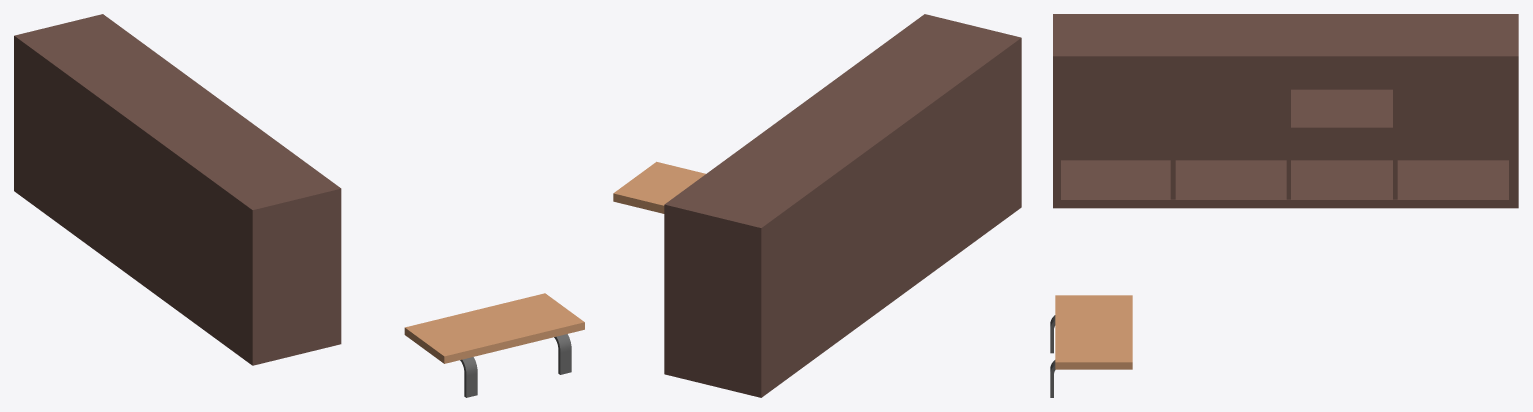
The model's file is Uppershelf.fbx.
3 renders of one model, left to right at view 1: azimuth 30°, elevation 25°; view 2: azimuth 150°, elevation 25°; view 3: azimuth 270°, elevation 25°, orthographic. The views are drawn at different scales.
Visible parts, largest first — view 1: pCube87; view 2: pCube87; view 3: pCube87.
Boxes of the visible parts, <box> form: pCube87: <box>14,14,584,397</box>; pCube87: <box>613,14,1021,397</box>; pCube87: <box>1050,14,1518,397</box>.
Size of the model in its own units: 55.85 by 38.17 by 69.64.
1 material, 1 textured.
